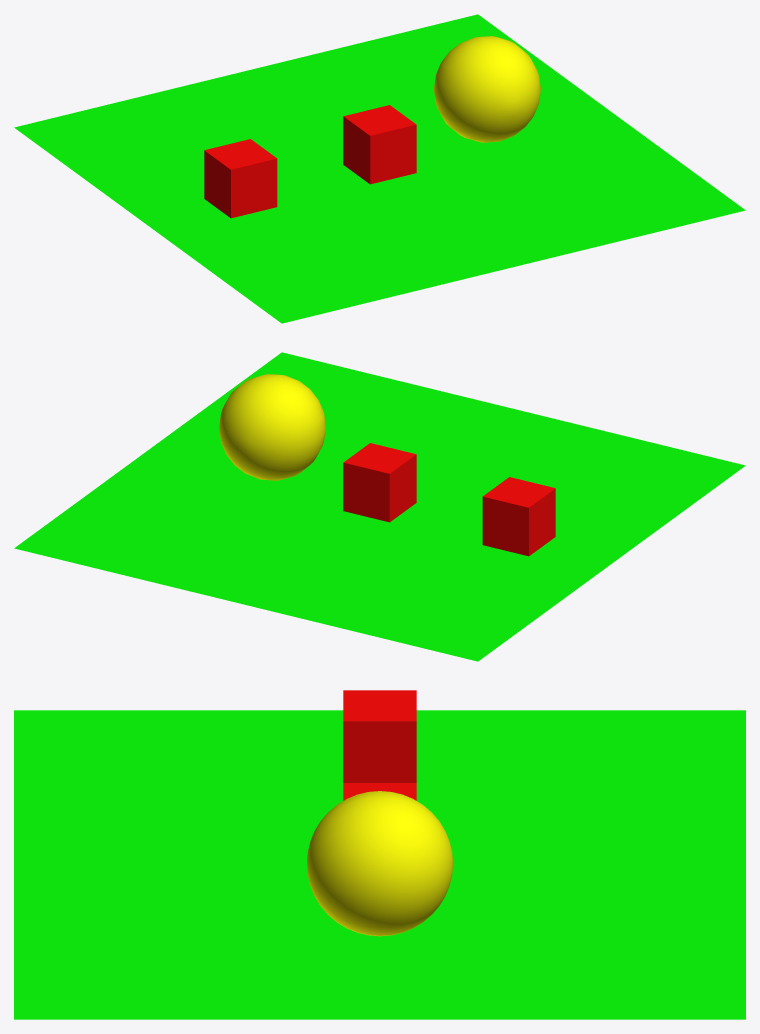
3 renders of one model, top to bottom at view 1: azimuth 30°, elevation 25°; view 2: azimuth 150°, elevation 25°; view 3: azimuth 270°, elevation 25°, orthographic. The views are drawn at different scales.
Parts seen in each view (by area): view 1: pPlane1, pSphere1, pCube1, pasted__pCube1; view 2: pPlane1, pSphere1, pCube1, pasted__pCube1; view 3: pPlane1, pSphere1, pasted__pCube1, pCube1.
Part boxes in pixels (<box>): pPlane1: <box>14,14,745,323</box>; pSphere1: <box>434,36,540,142</box>; pCube1: <box>343,105,416,184</box>; pasted__pCube1: <box>204,139,277,218</box>; pPlane1: <box>14,352,745,661</box>; pSphere1: <box>219,374,325,480</box>; pCube1: <box>343,443,416,522</box>; pasted__pCube1: <box>482,477,555,556</box>; pPlane1: <box>14,710,745,1019</box>; pSphere1: <box>306,791,453,936</box>; pasted__pCube1: <box>343,690,416,782</box>; pCube1: <box>343,783,416,800</box>.
Size of the model in its own units: 1000 by 1000 by 210.
